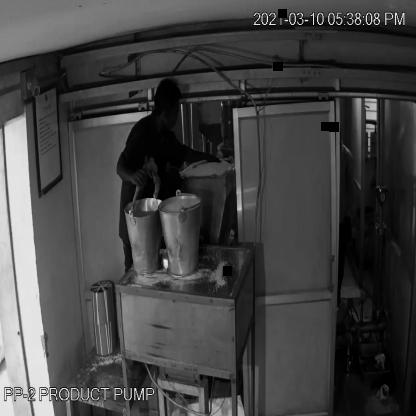no_glove: (180, 138, 223, 178), (116, 152, 146, 190)
